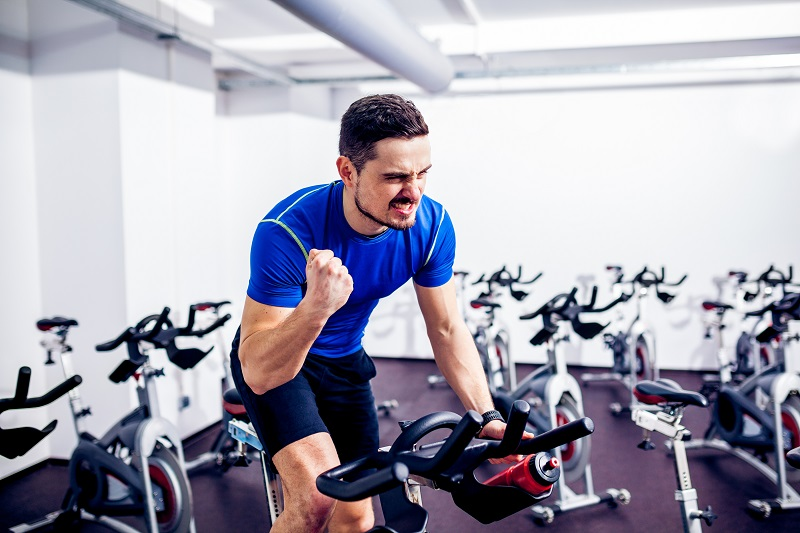gym_bike: (28, 302, 203, 533)
